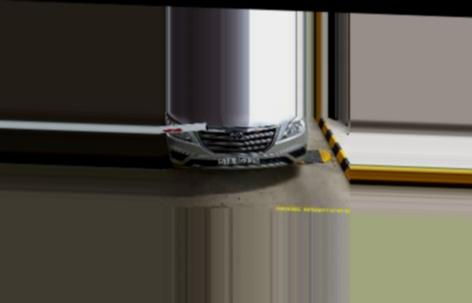License_Plate: (216, 154, 262, 169)
